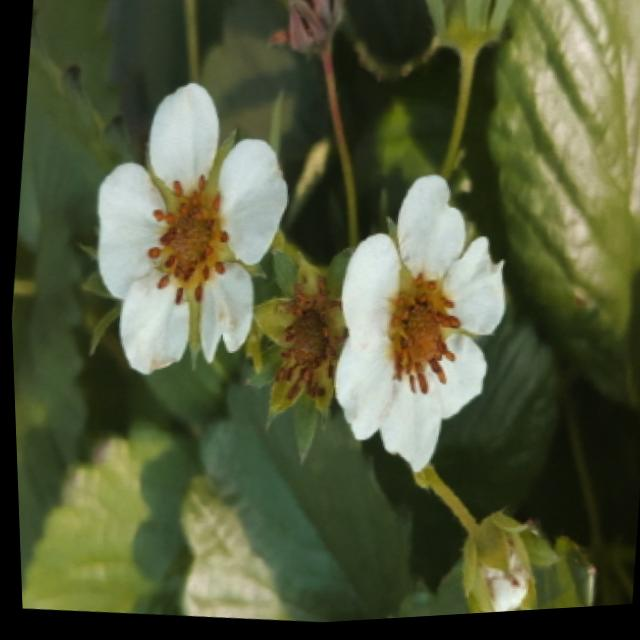Blossom Blight: (141, 169, 232, 310), (378, 272, 462, 404), (267, 292, 339, 406)
